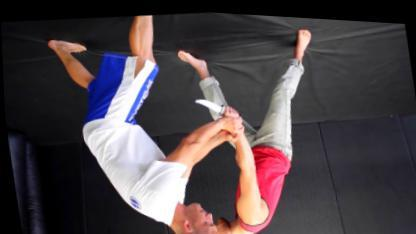knife: (190, 90, 242, 119)
